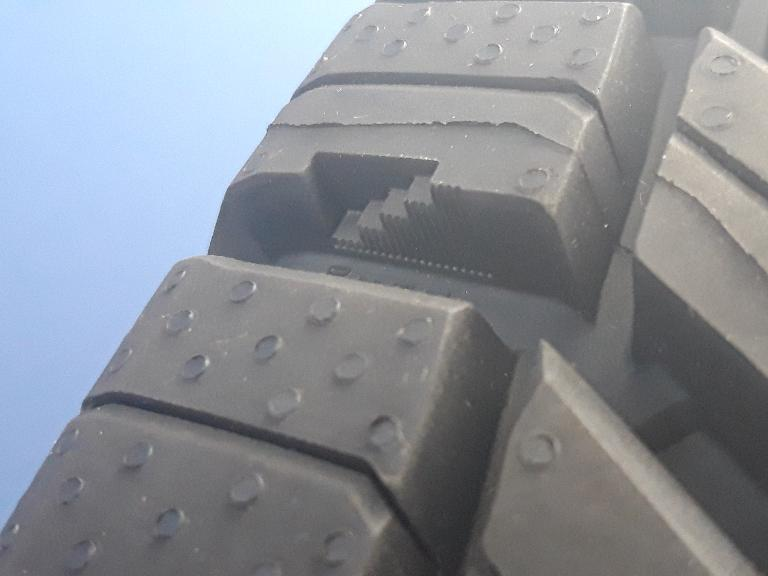temoin:100: (298, 147, 473, 278)
